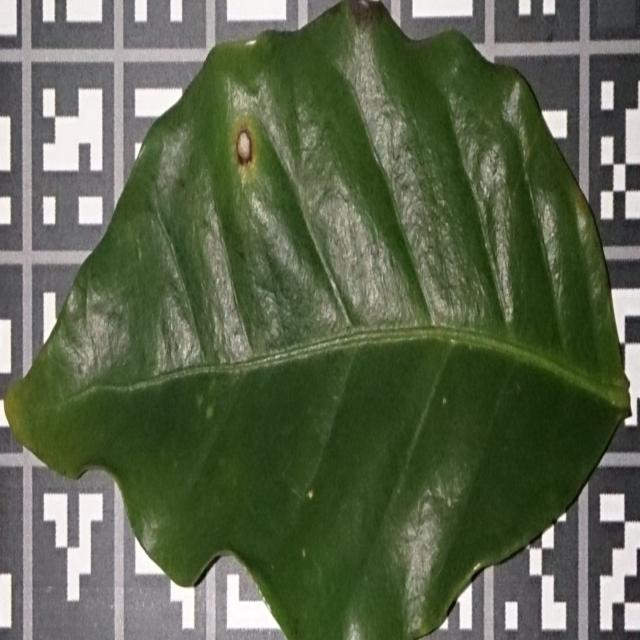Enfermedad-Mancha-de-hierro: (5, 0, 633, 640)
